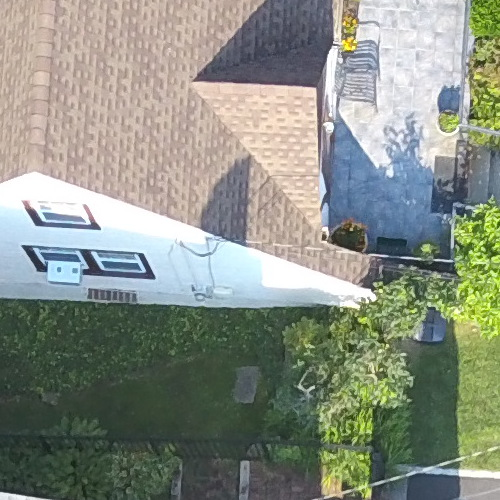flower pot: (325, 216, 370, 262), (435, 104, 464, 140)
